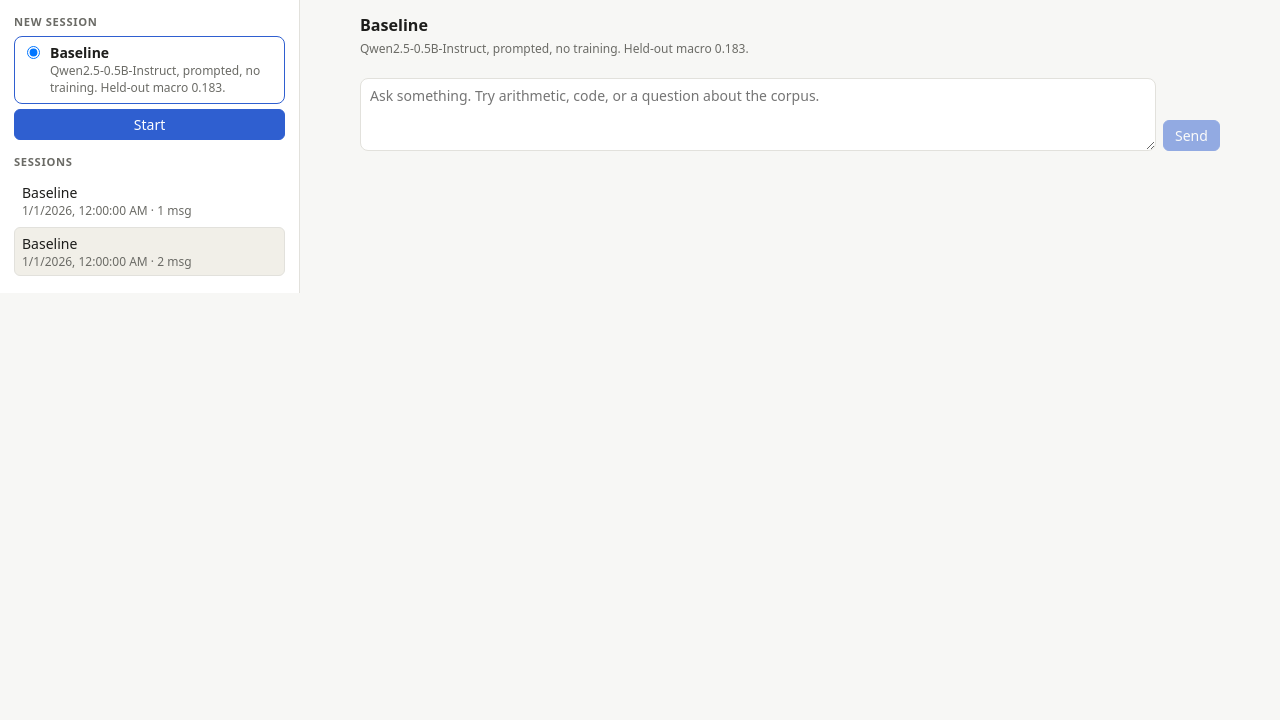
Test case: sending a message › streams the episode, then shows the recorded one
Later steps or results of the test are not shown.
Replace the text in the text box with "What is 6 * 7?" at (758, 114), box [360,78,1156,150]
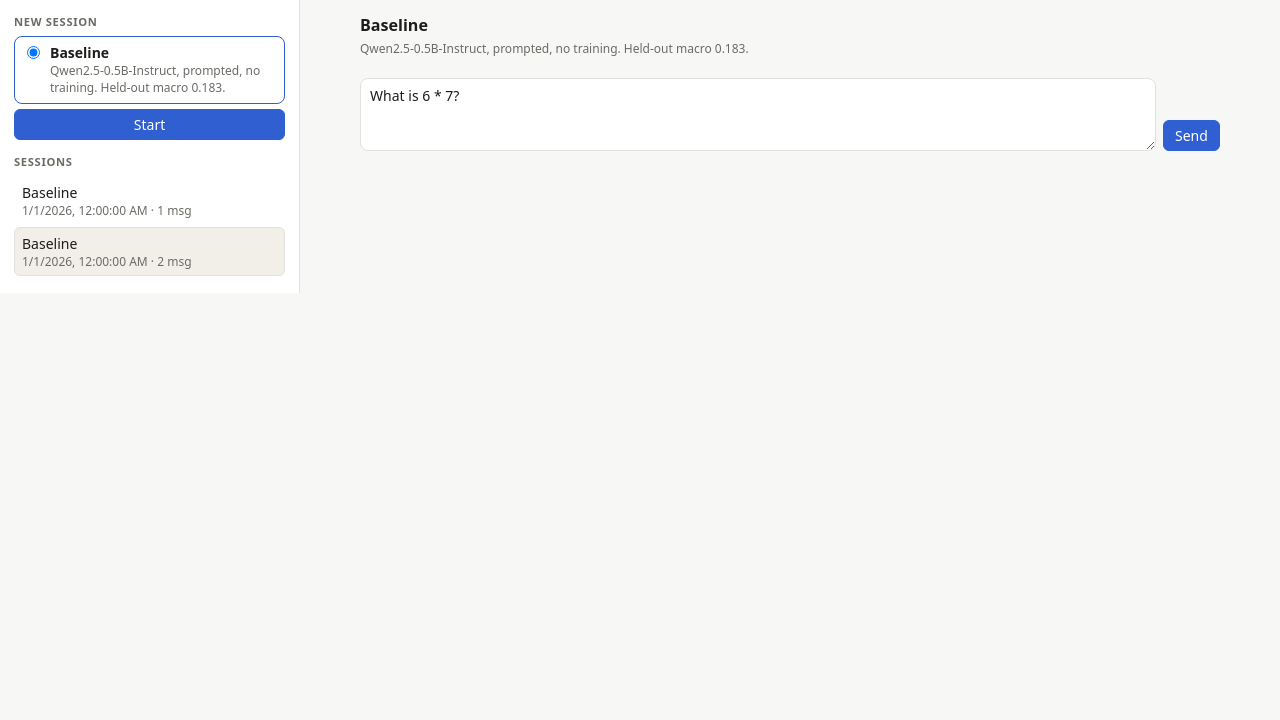
Press Enter in the text box, box [360,78,1156,150]
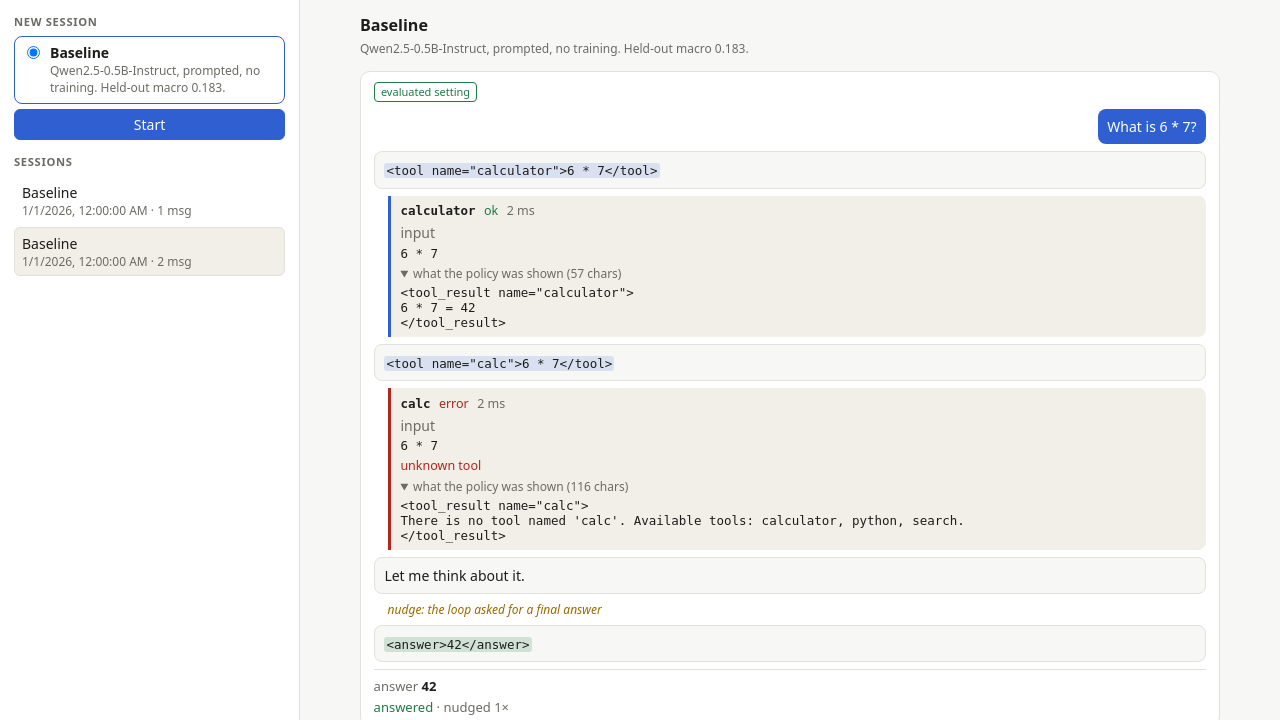
Expected: the text "calc" is shown, [400,396,430,410]
Expected: the text "nudge: the loop asked for a final answer" is shown, [388,601,602,618]
Expected: the text "evaluated setting" is shown, [374,82,477,102]
